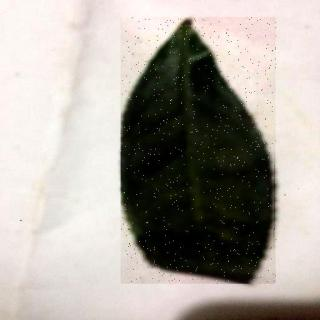Red Leaf Spot: (122, 18, 278, 285)
